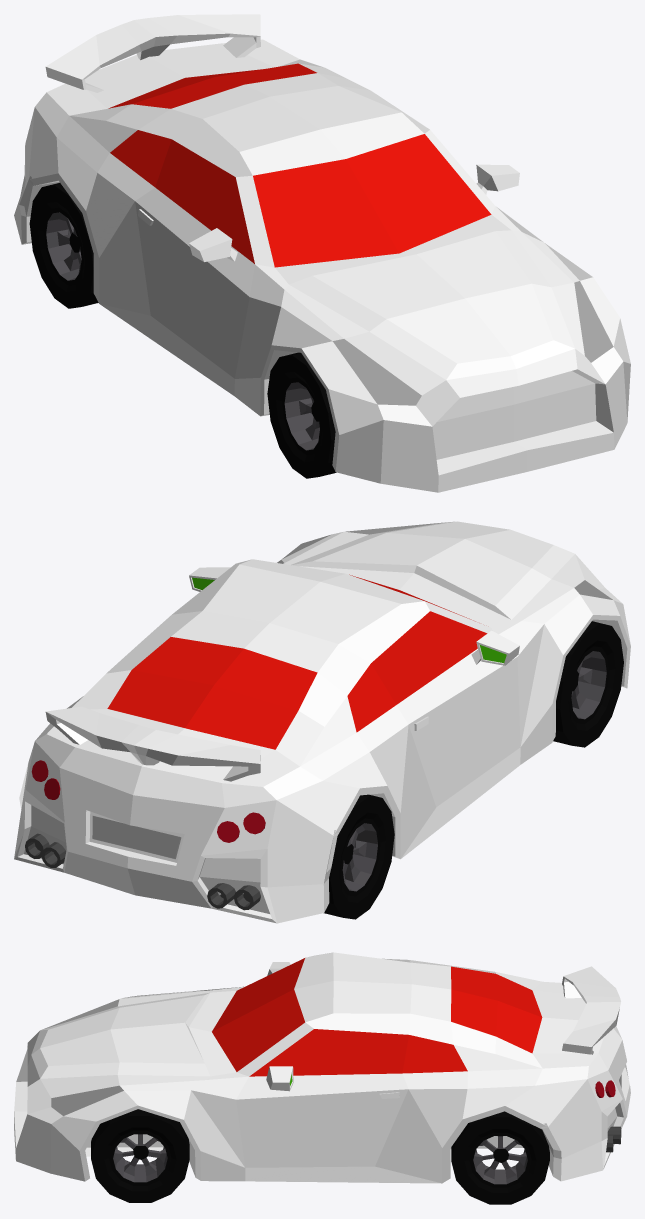
Rendered from CarroModelo.fbx.
3 renders of one model, top to bottom at view 1: azimuth 30°, elevation 25°; view 2: azimuth 150°, elevation 25°; view 3: azimuth 270°, elevation 25°, orthographic. The views are drawn at different scales.
Visible parts, largest first — view 1: Vert, window1, door, Vert.001, Cylinder.007, Cylinder.006, window2, window4, window3; view 2: Vert, window4, door, Vert.001, Cylinder.007, Cylinder.006, window2, window3, Cylinder.003, Cylinder.002, Cylinder.005, Cylinder.004; view 3: Vert, door, Cylinder, Cylinder.001, Vert.001, window1, window4, window2, window3.
Boxes of the visible parts, x1,y1,x2,y2 form: Vert: (14,39,630,492); window1: (253,134,491,267); door: (135,164,519,378); Vert.001: (45,14,273,108); Cylinder.007: (267,352,336,478); Cylinder.006: (29,183,98,308); window2: (155,139,254,263); window4: (108,63,316,108); window3: (110,130,171,186); Vert: (14,521,630,923); window4: (107,637,317,749); door: (189,567,520,806); Vert.001: (45,706,274,807); Cylinder.007: (553,621,623,747); Cylinder.006: (324,794,394,919); window2: (371,611,487,704); window3: (347,664,395,732); Cylinder.003: (41,842,235,908); Cylinder.002: (25,833,260,910); Cylinder.005: (44,778,239,842); Cylinder.004: (31,760,265,834); Vert: (14,952,630,1183); door: (236,962,408,1167); Cylinder: (91,1109,189,1202); Cylinder.001: (451,1111,549,1204); Vert.001: (532,966,622,1069); window1: (212,958,304,1071); window4: (451,966,542,1053); window2: (249,1029,408,1076); window3: (402,1035,467,1073).
Bounding box in the file's own units: 213 × 138 × 461.
